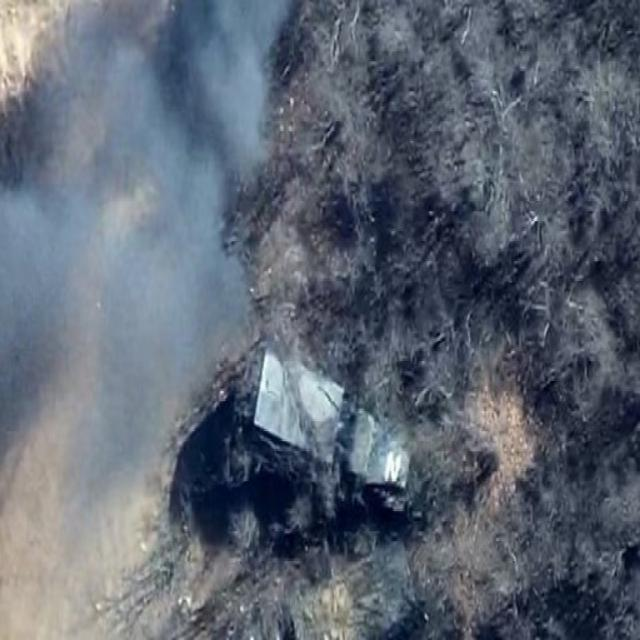TRUCK: (251, 342, 414, 527)
